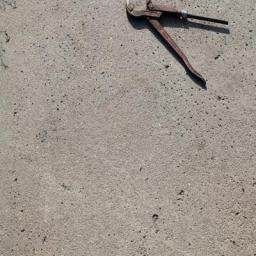FOD: (124, 1, 233, 91)
